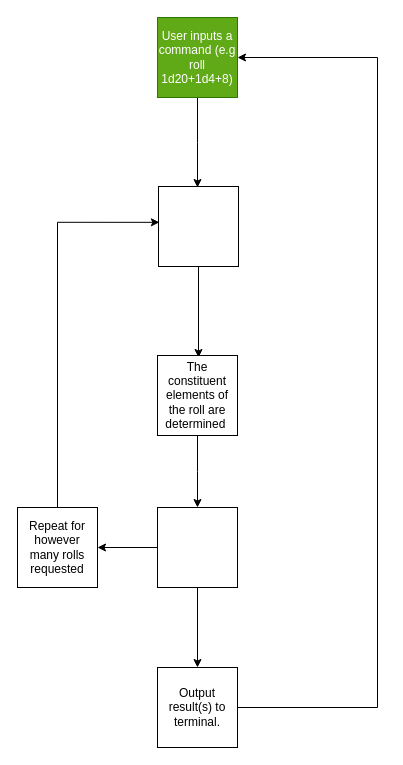
Some shapes in this 403 by 765 pixel diagram are drawn without their labels. The centre of each missing label's shape, as x and y in pixels:
"Script uses regex to determine the variables and adds them to an array" belongs at [198,226].
"The roll is summed together." belongs at [197,547].
